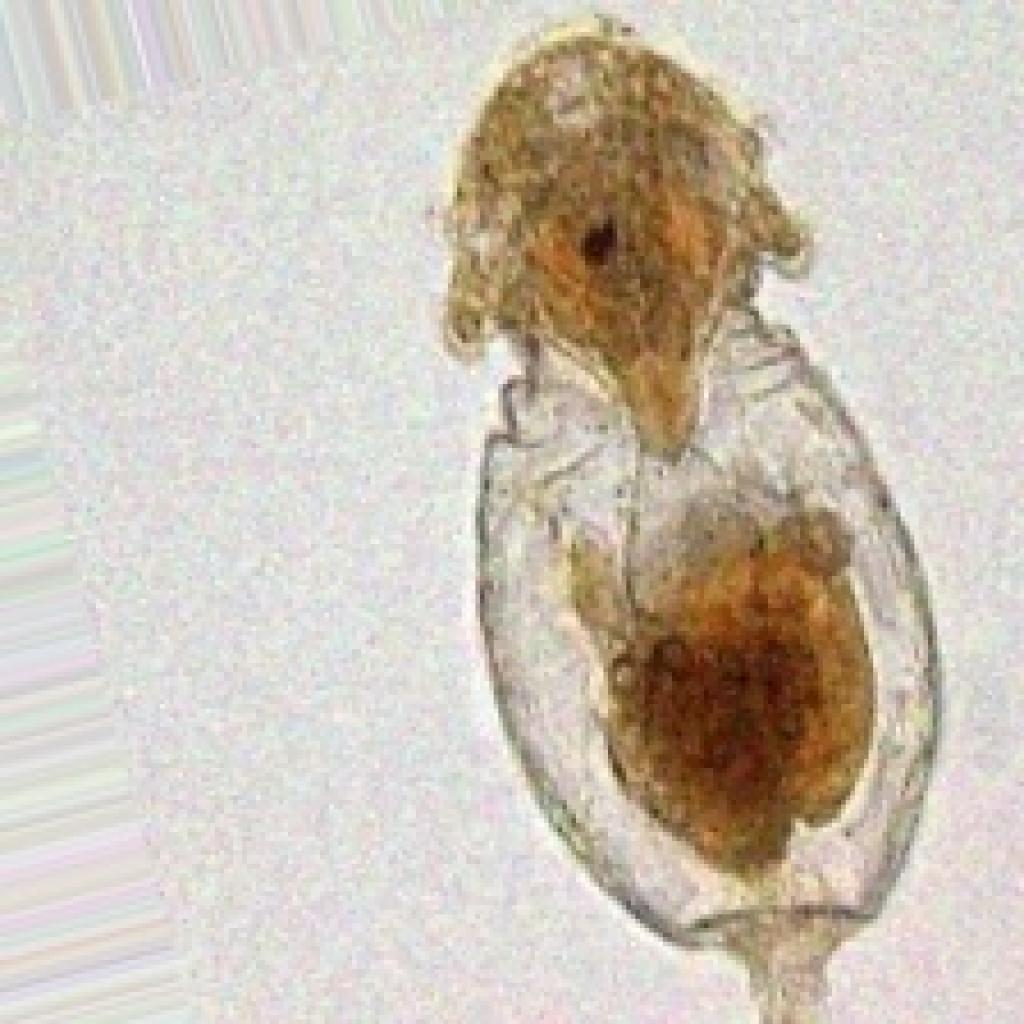Rotifer: (430, 14, 946, 1019)
